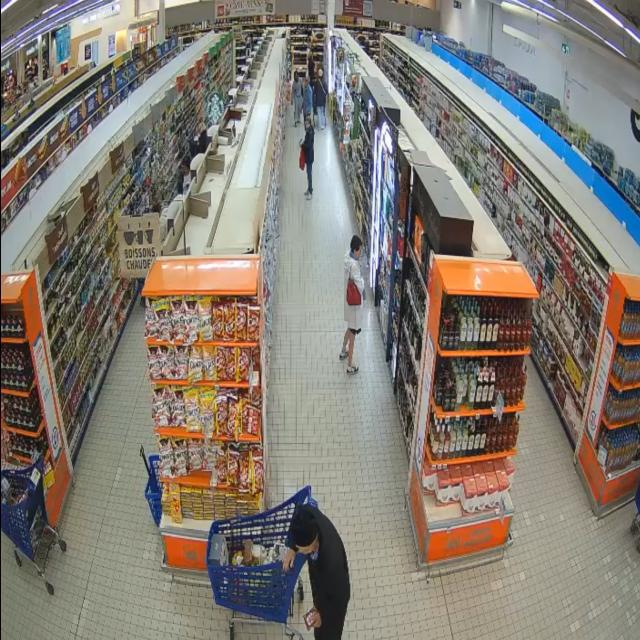article: (303, 608, 318, 631)
bags: (346, 271, 361, 305), (300, 147, 305, 170)
hands: (283, 549, 296, 571), (312, 609, 321, 628), (299, 139, 303, 147)
person: (283, 505, 350, 639), (340, 236, 364, 374), (301, 116, 314, 200)
